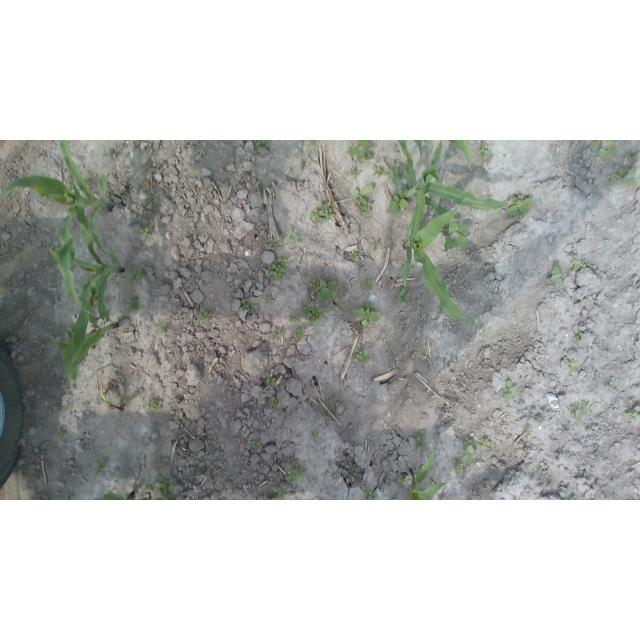Maize: (2, 141, 115, 256), (402, 176, 482, 324), (51, 182, 126, 321), (392, 141, 517, 221), (47, 280, 120, 385), (408, 444, 448, 500), (448, 140, 472, 172), (101, 488, 139, 500), (414, 140, 423, 166)
Weeds: (443, 219, 470, 251), (142, 188, 164, 220), (353, 302, 380, 327), (353, 184, 374, 215), (299, 302, 326, 326), (308, 279, 337, 301), (506, 196, 534, 218), (347, 141, 373, 164), (309, 202, 335, 224), (590, 140, 619, 158), (268, 256, 289, 280), (569, 400, 592, 419), (284, 462, 304, 483), (388, 192, 408, 212), (156, 476, 175, 497), (618, 167, 638, 186), (464, 439, 477, 466), (502, 380, 517, 402), (548, 267, 563, 286), (286, 227, 299, 248), (198, 306, 213, 324), (477, 144, 492, 160), (397, 289, 412, 304), (414, 431, 427, 448), (390, 161, 403, 178), (145, 400, 162, 413), (372, 166, 388, 179), (353, 350, 369, 363), (156, 318, 169, 334), (95, 458, 107, 475), (570, 260, 586, 272), (573, 333, 585, 348), (131, 268, 142, 284), (370, 238, 383, 251), (452, 459, 463, 474), (115, 394, 133, 403), (241, 298, 251, 314), (364, 488, 377, 500), (129, 296, 140, 310), (139, 228, 153, 239), (292, 329, 304, 341), (350, 166, 361, 179), (477, 438, 491, 448), (627, 150, 638, 162), (276, 490, 289, 500), (265, 373, 276, 384), (113, 367, 123, 379), (269, 239, 279, 251), (289, 314, 299, 325), (363, 280, 373, 291), (626, 411, 638, 420), (138, 489, 151, 497), (271, 330, 281, 340), (309, 430, 319, 440), (348, 251, 358, 261), (398, 475, 407, 486), (254, 141, 267, 148), (102, 149, 111, 158), (251, 441, 260, 450), (569, 362, 578, 371), (607, 174, 617, 182), (271, 397, 278, 408), (482, 330, 491, 338), (606, 382, 615, 390), (58, 427, 66, 436), (265, 294, 272, 303), (307, 141, 316, 148), (525, 428, 532, 436), (329, 398, 337, 405), (85, 179, 91, 188), (537, 467, 544, 473), (349, 458, 356, 463), (351, 440, 355, 444)
